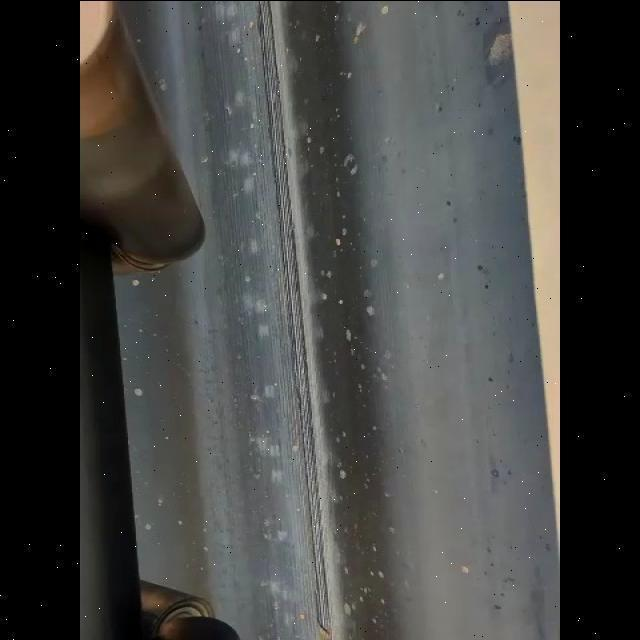Wear: (251, 2, 338, 640)
